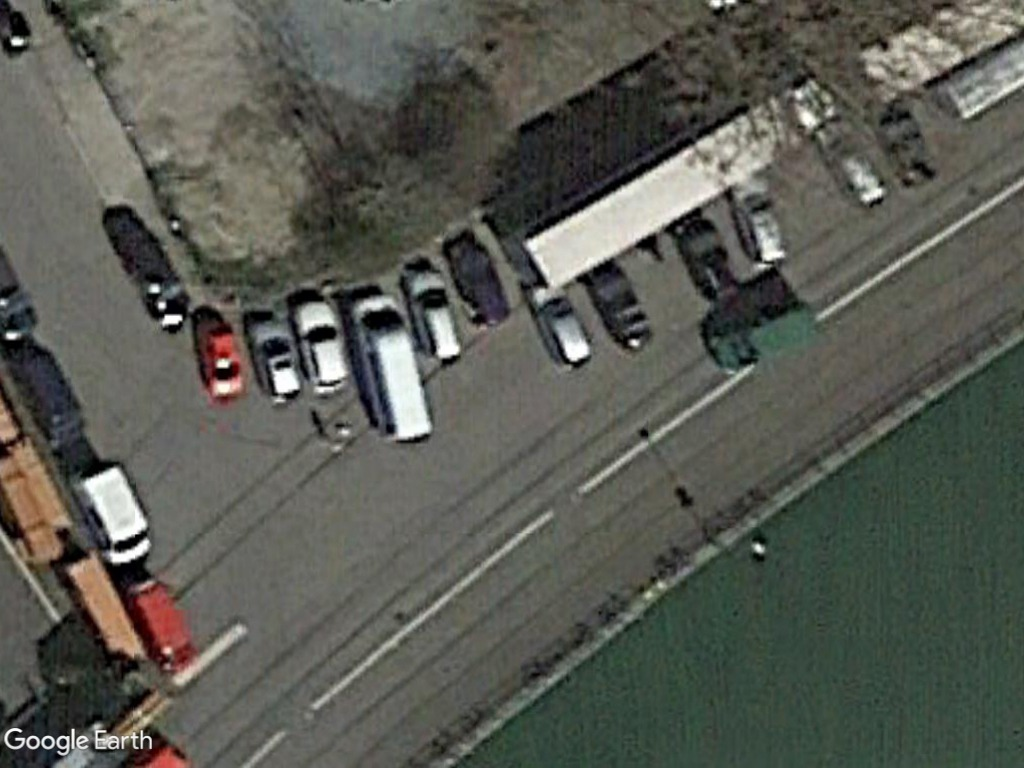car: (400, 263, 468, 366), (287, 292, 355, 395), (241, 312, 309, 406), (523, 281, 592, 372)
van: (341, 290, 442, 449), (67, 459, 159, 569)
